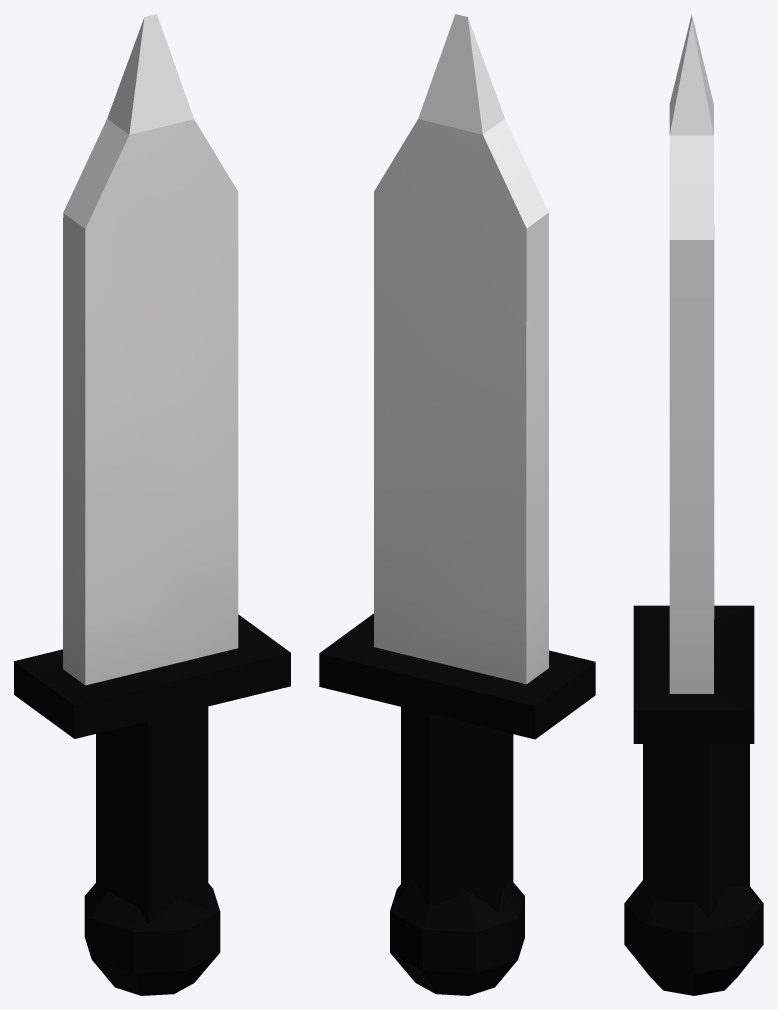
Rendered from Cuchillo.fbx.
The picture shows the model from 3 angles, left to right: view 1: azimuth 30°, elevation 25°; view 2: azimuth 150°, elevation 25°; view 3: azimuth 270°, elevation 25°; orthographic projection.
Visible parts, largest first — view 1: Cubo; view 2: Cubo; view 3: Cubo.
Boxes of the visible parts, x1,y1,x2,y2 form: Cubo: (14,14,290,995); Cubo: (319,14,595,995); Cubo: (624,14,763,995).
Size of the model in its own units: 23.33 by 101 by 13.09.
